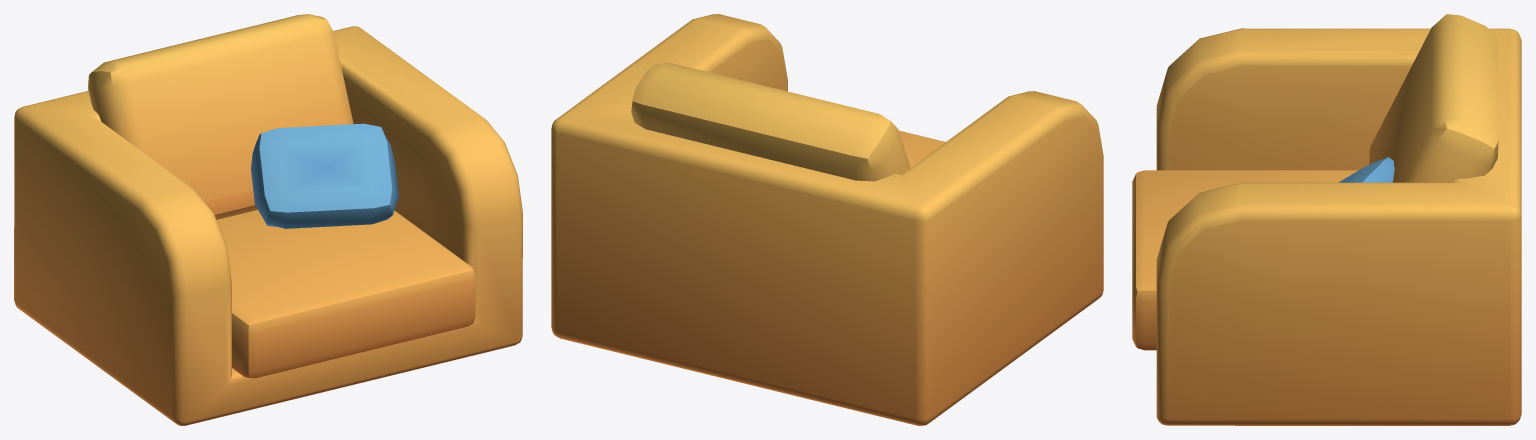
File: armchair_pillows.glb
The picture shows the model from 3 angles, left to right: view 1: azimuth 30°, elevation 25°; view 2: azimuth 150°, elevation 25°; view 3: azimuth 270°, elevation 25°; orthographic projection. The views are drawn at different scales.
Parts seen in each view (by area): view 1: armchair_pillows; view 2: armchair_pillows; view 3: armchair_pillows.
Boxes of the visible parts, <box> form: armchair_pillows: <box>14,14,522,425</box>; armchair_pillows: <box>551,14,1103,425</box>; armchair_pillows: <box>1132,14,1521,425</box>.
Bounding box in the file's own units: 1.8 × 1.22 × 1.6.
1 material, 1 textured.
